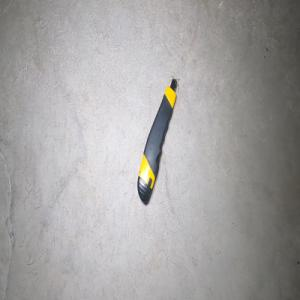Cutter: (137, 77, 178, 205)
